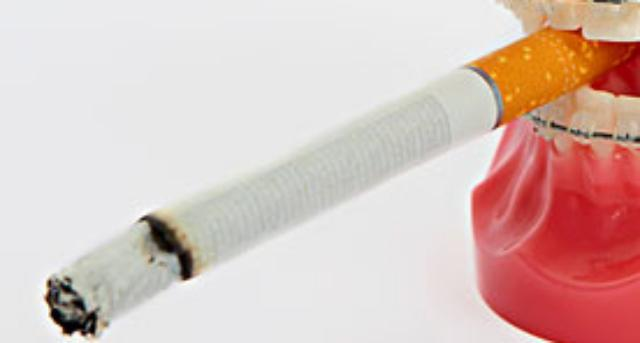Smoking: (42, 33, 614, 341)
